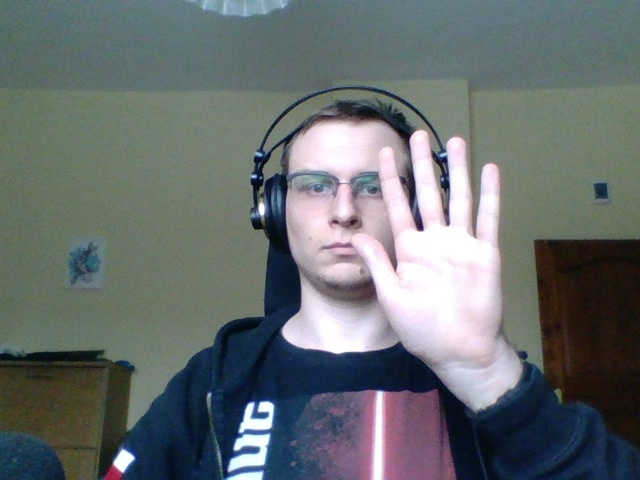hello: (348, 124, 531, 413)
